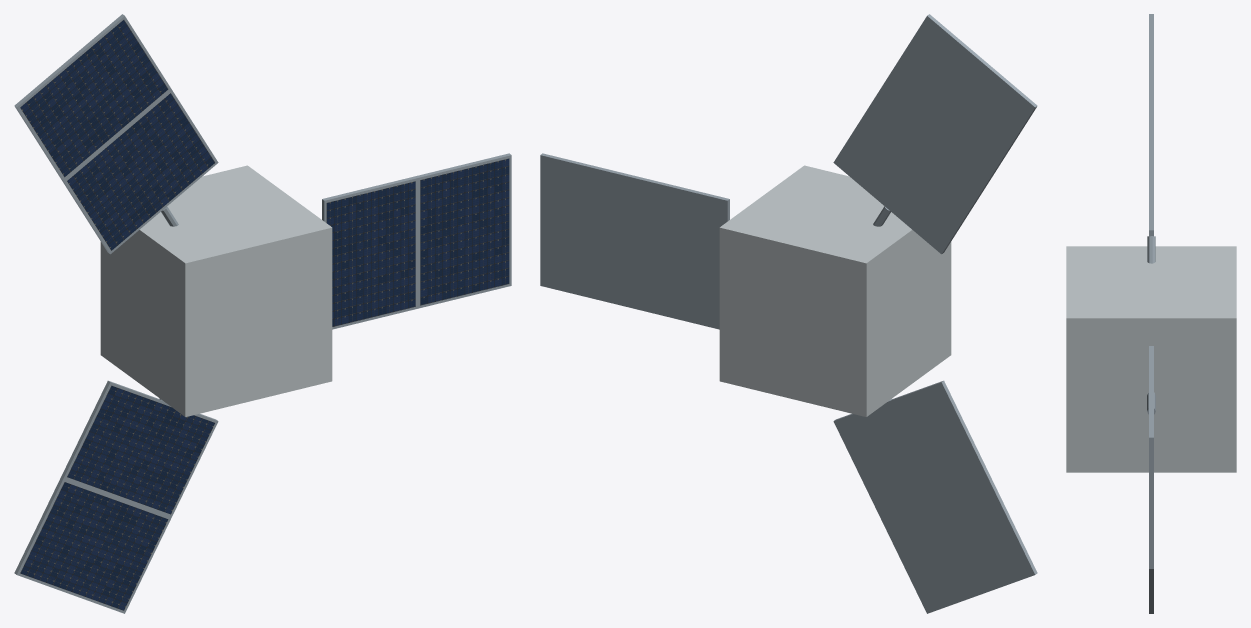
Rendered from ref-cs-l3000b-41727.glb.
3 renders of one model, left to right at view 1: azimuth 30°, elevation 25°; view 2: azimuth 150°, elevation 25°; view 3: azimuth 270°, elevation 25°, orthographic.
Parts seen in each view (by area): view 1: Photovoltaic laminates (×6), Spacecraft body, Array frame (×6); view 2: Array frame (×6), Spacecraft body; view 3: Spacecraft body, Array frame (×3).
Part boxes in pixels (<box>): Photovoltaic laminates (×6): <box>20,20,509,610</box>; Spacecraft body: <box>100,165,332,416</box>; Array frame (×6): <box>14,14,511,613</box>; Array frame (×6): <box>540,14,1037,613</box>; Spacecraft body: <box>719,165,951,416</box>; Spacecraft body: <box>1066,246,1236,472</box>; Array frame (×3): <box>1149,14,1153,568</box>.
Size of the model in its own units: 6.74 by 7.78 by 2.
Materials: 3 (1 with a texture image).
